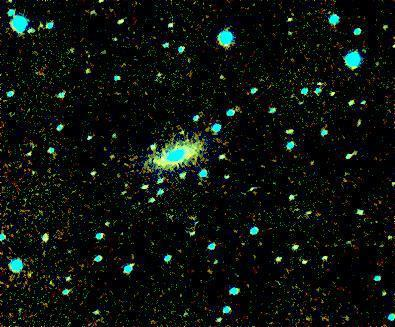star: (167, 117, 197, 147)
